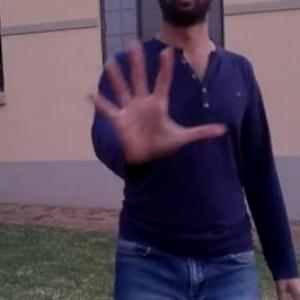follow_hand: (82, 39, 227, 170)
